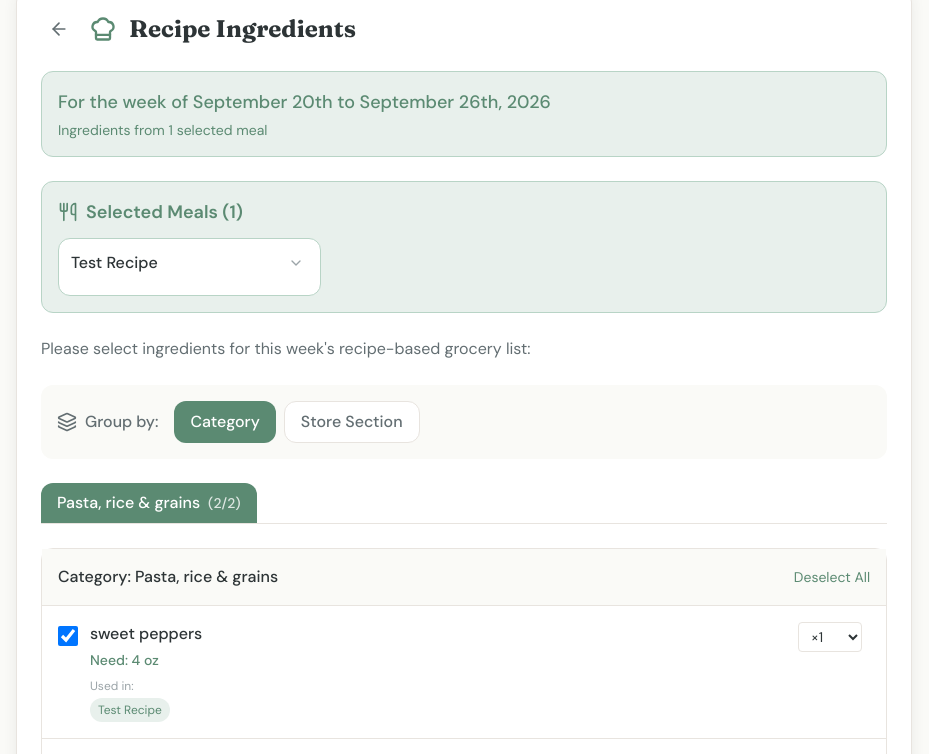
Test case: RecipeIngredients — slice 1 shows the recipe need › the confirmation list shows the need times the multiplier
The width and height of the screenshot is (929, 754).
Expected: the heading "sweet peppers" is shown, [90,623,202,644]
Select "×3" in the dropdown at (830, 637), box [798,622,862,652]
(page scrolled)
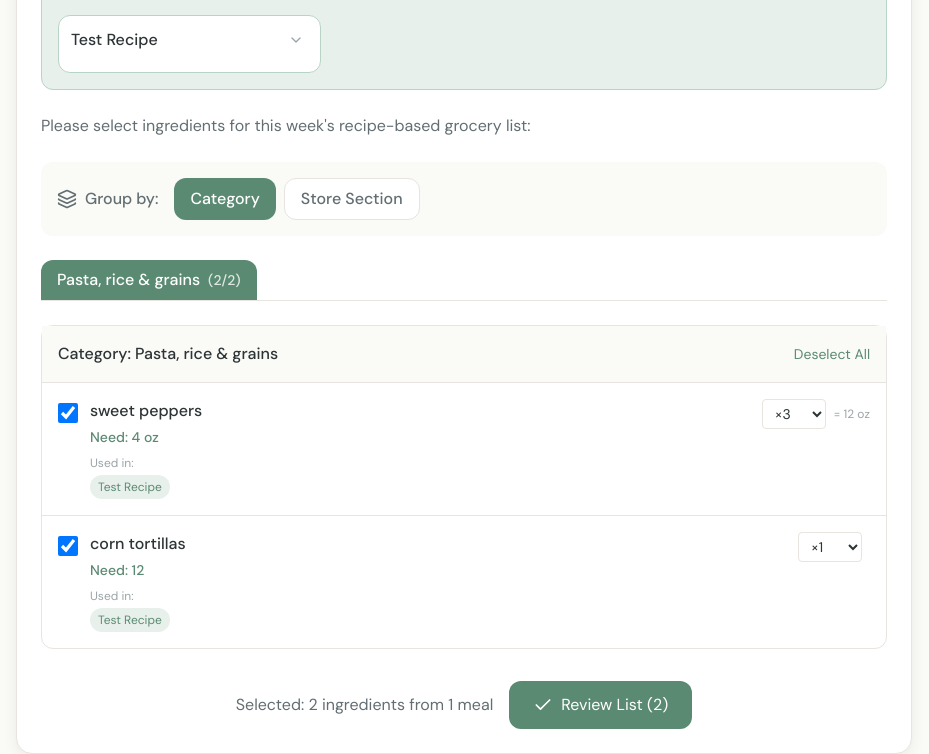
Click the button "Review List (2)" at (601, 705), box [509,681,692,729]
(page scrolled)
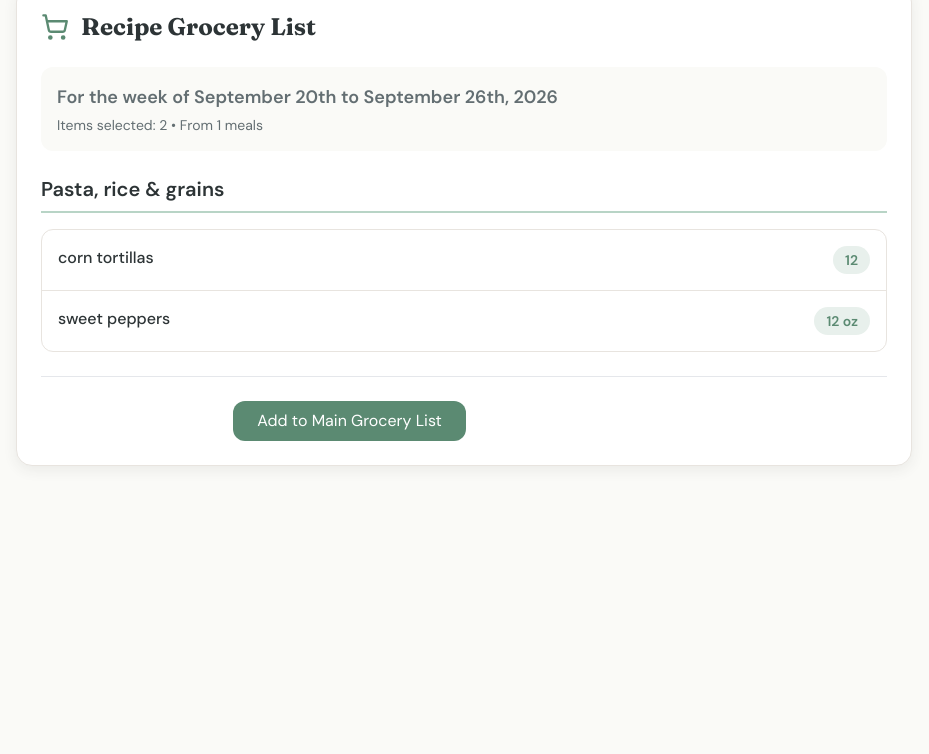
Now the text "12 oz" is shown, box [814,307,870,335]
Now the text "12" is shown, box [833,246,870,274]
Now the heading "Recipe Grocery List" is shown, box [81,11,316,43]
